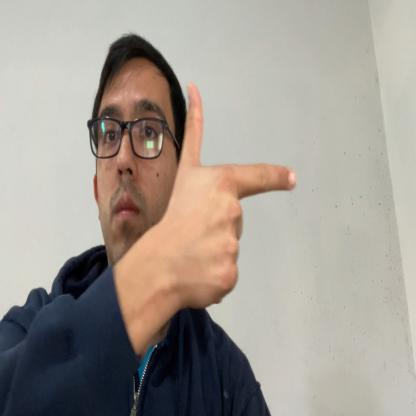G: (174, 80, 297, 306)
